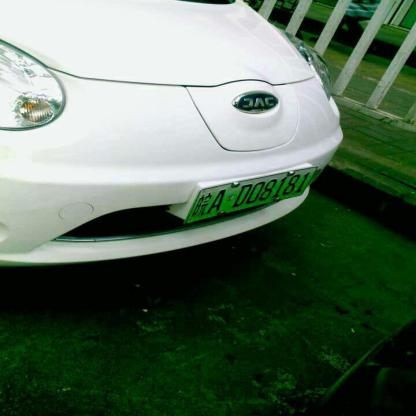lp: (184, 166, 316, 223)
